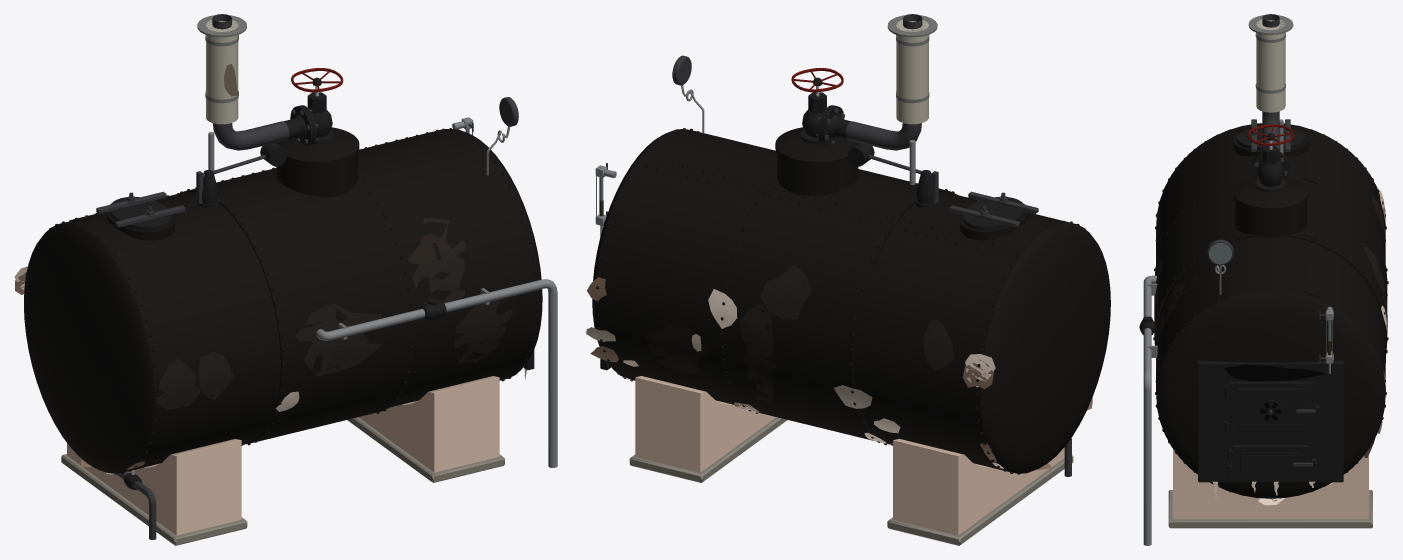
The model's file is boiler.glb.
3 views of the same model, side by side, from view 1: azimuth 30°, elevation 25°; view 2: azimuth 150°, elevation 25°; view 3: azimuth 270°, elevation 25° (orthographic). The views are drawn at different scales.
Visible parts, largest first — view 1: teil, teil.020, teil.023, teil.006, teil.001, teil.003, teil.021, teil.016, teil.017; view 2: teil, teil.020, teil.023, teil.003, teil.001, teil.021, teil.005, teil.016, teil.022, teil.006, teil.017; view 3: teil, teil.001, teil.020, teil.006, teil.016, teil.021, teil.003, teil.023, teil.004, teil.017, teil.005, teil.007 (+1 smaller).
Boxes of the visible parts, bbox=[...] form: teil: bbox=[24, 127, 542, 474]; teil.020: bbox=[67, 376, 499, 535]; teil.023: bbox=[157, 217, 512, 409]; teil.006: bbox=[208, 117, 557, 467]; teil.001: bbox=[110, 77, 534, 490]; teil.003: bbox=[96, 14, 518, 539]; teil.021: bbox=[61, 417, 504, 545]; teil.016: bbox=[206, 20, 238, 124]; teil.017: bbox=[197, 15, 489, 339]; teil: bbox=[592, 127, 1110, 474]; teil.020: bbox=[635, 376, 1064, 535]; teil.023: bbox=[644, 264, 954, 403]; teil.003: bbox=[606, 14, 1071, 476]; teil.001: bbox=[600, 77, 1024, 370]; teil.021: bbox=[629, 417, 1073, 545]; teil.005: bbox=[586, 289, 1003, 468]; teil.016: bbox=[896, 19, 928, 124]; teil.022: bbox=[587, 277, 1092, 469]; teil.006: bbox=[595, 85, 915, 235]; teil.017: bbox=[887, 15, 937, 103]; teil: bbox=[1153, 123, 1388, 498]; teil.001: bbox=[1139, 128, 1343, 482]; teil.020: bbox=[1173, 449, 1368, 519]; teil.006: bbox=[1143, 119, 1333, 545]; teil.016: bbox=[1256, 19, 1285, 112]; teil.021: bbox=[1168, 490, 1372, 528]; teil.003: bbox=[1207, 14, 1325, 466]; teil.023: bbox=[1154, 197, 1387, 374]; teil.004: bbox=[1224, 364, 1325, 381]; teil.017: bbox=[1147, 15, 1293, 357]; teil.005: bbox=[1212, 190, 1387, 505]; teil.007: bbox=[1209, 243, 1331, 355].
Size of the model in its own units: 3.2 by 3.25 by 1.78.
